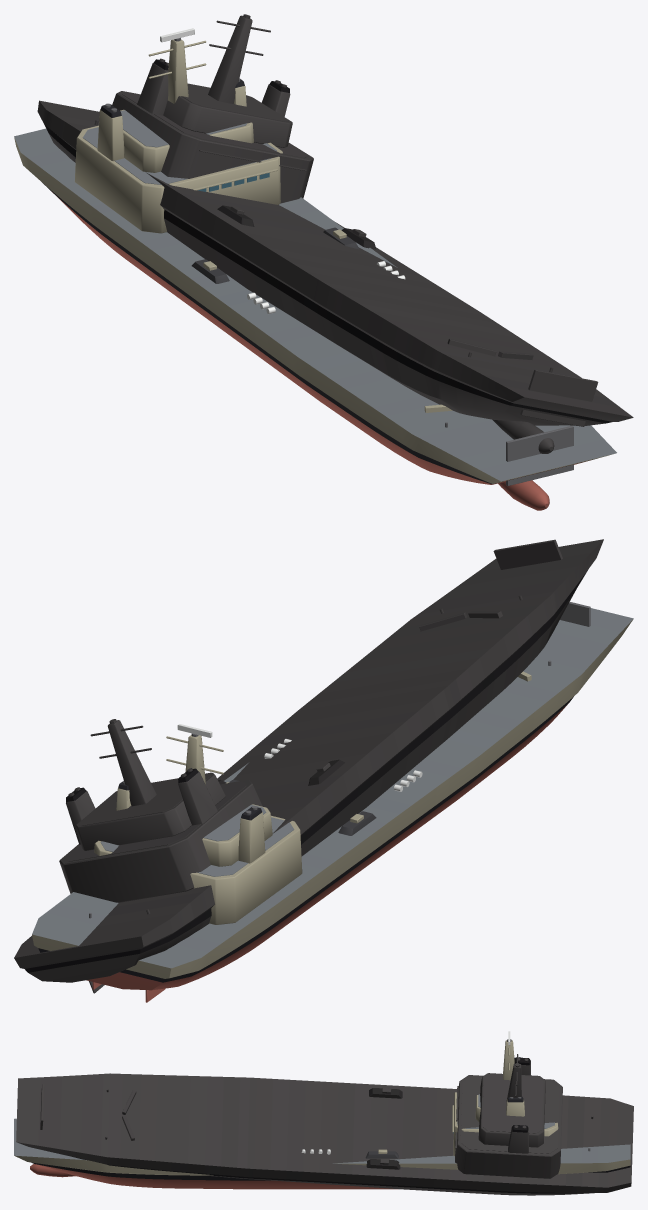
File: landingShip__nahshon.glb
3 renders of one model, top to bottom at view 1: azimuth 30°, elevation 25°; view 2: azimuth 150°, elevation 25°; view 3: azimuth 270°, elevation 25°, orthographic. The views are drawn at different scales.
Parts seen in each view (by area): view 1: Wreck, Hull_Mesh; view 2: Wreck, Hull_Mesh; view 3: Wreck, Hull_Mesh.
Part boxes in pixels (left/top/right/bottom): Wreck: left=37, top=14, right=633, bottom=453; Hull_Mesh: left=14, top=39, right=616, bottom=510; Wreck: left=14, top=539, right=603, bottom=993; Hull_Mesh: left=32, top=602, right=633, bottom=1002; Wreck: left=16, top=1054, right=633, bottom=1195; Hull_Mesh: left=14, top=1040, right=630, bottom=1189.
Size of what is drawn, in the model's own units: 23.95 by 25.02 by 99.5.
